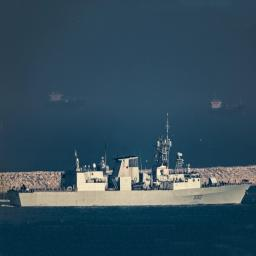Fragata: (8, 109, 255, 212)
